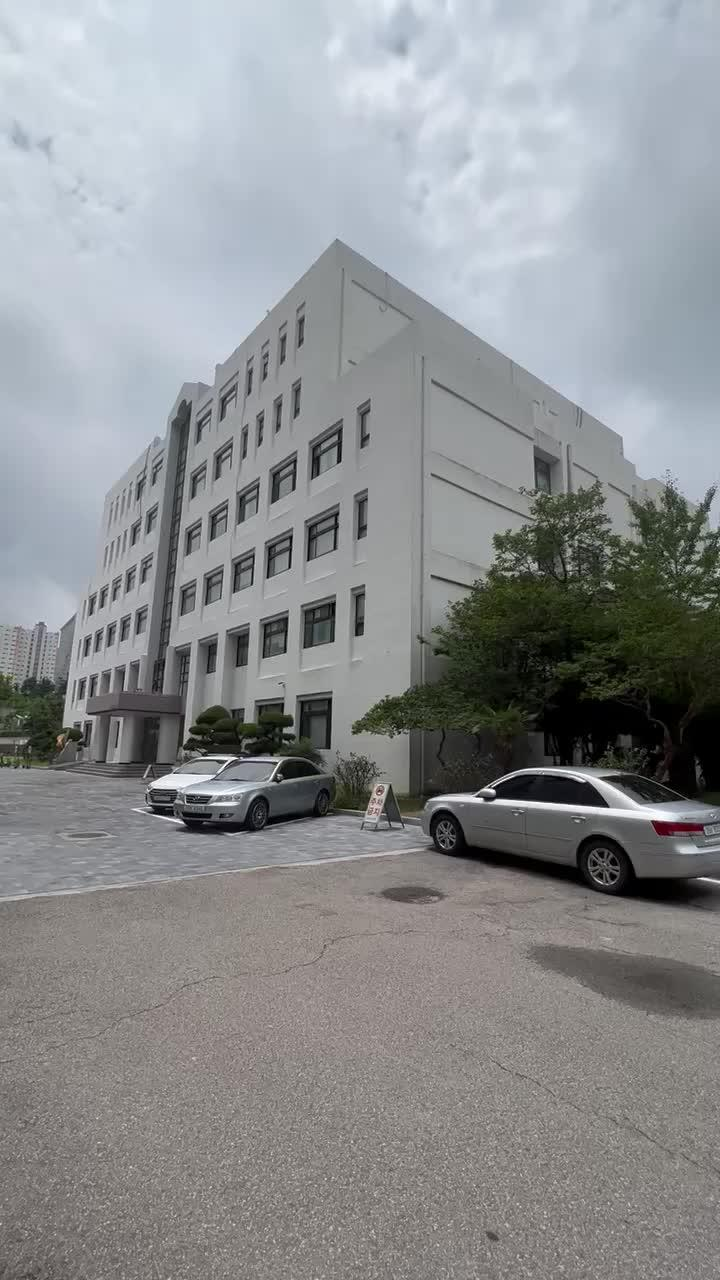building: (88, 254, 438, 760)
